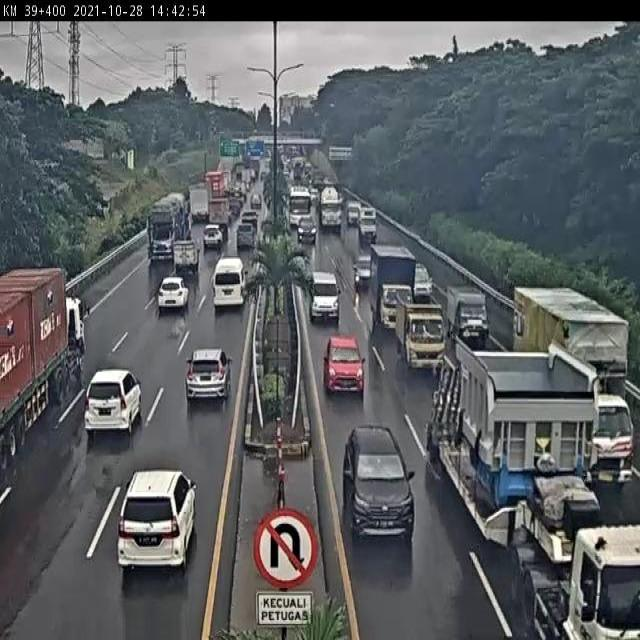big truck: (0, 268, 90, 467)
bus-s-: (308, 269, 342, 327)
car: (341, 423, 417, 549), (116, 469, 198, 575), (83, 368, 142, 432), (186, 348, 235, 409), (324, 335, 366, 400), (212, 257, 249, 308), (157, 276, 193, 313), (413, 265, 435, 300), (353, 255, 373, 288)
truck-l-: (512, 281, 638, 487)
truck-m-: (396, 289, 447, 375), (369, 244, 418, 332)
truck-s-: (445, 282, 493, 342)
